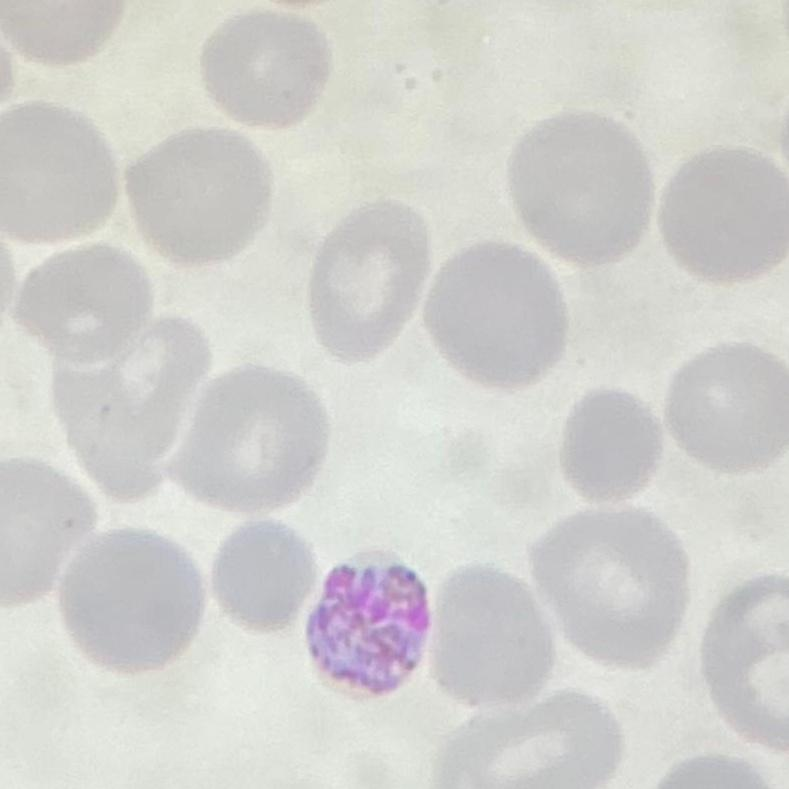Infected: (302, 541, 439, 707)
Uninfected: (522, 505, 693, 669), (150, 365, 326, 513), (510, 113, 650, 269), (58, 533, 207, 672), (422, 243, 562, 388), (122, 125, 270, 260), (310, 199, 429, 364), (438, 687, 618, 789), (0, 101, 121, 248), (666, 339, 789, 478), (658, 149, 789, 278), (698, 567, 789, 752), (430, 563, 547, 705), (52, 357, 161, 505), (100, 317, 214, 458), (18, 245, 153, 361), (202, 9, 325, 134), (0, 451, 98, 602), (208, 519, 314, 636), (558, 385, 661, 500)
